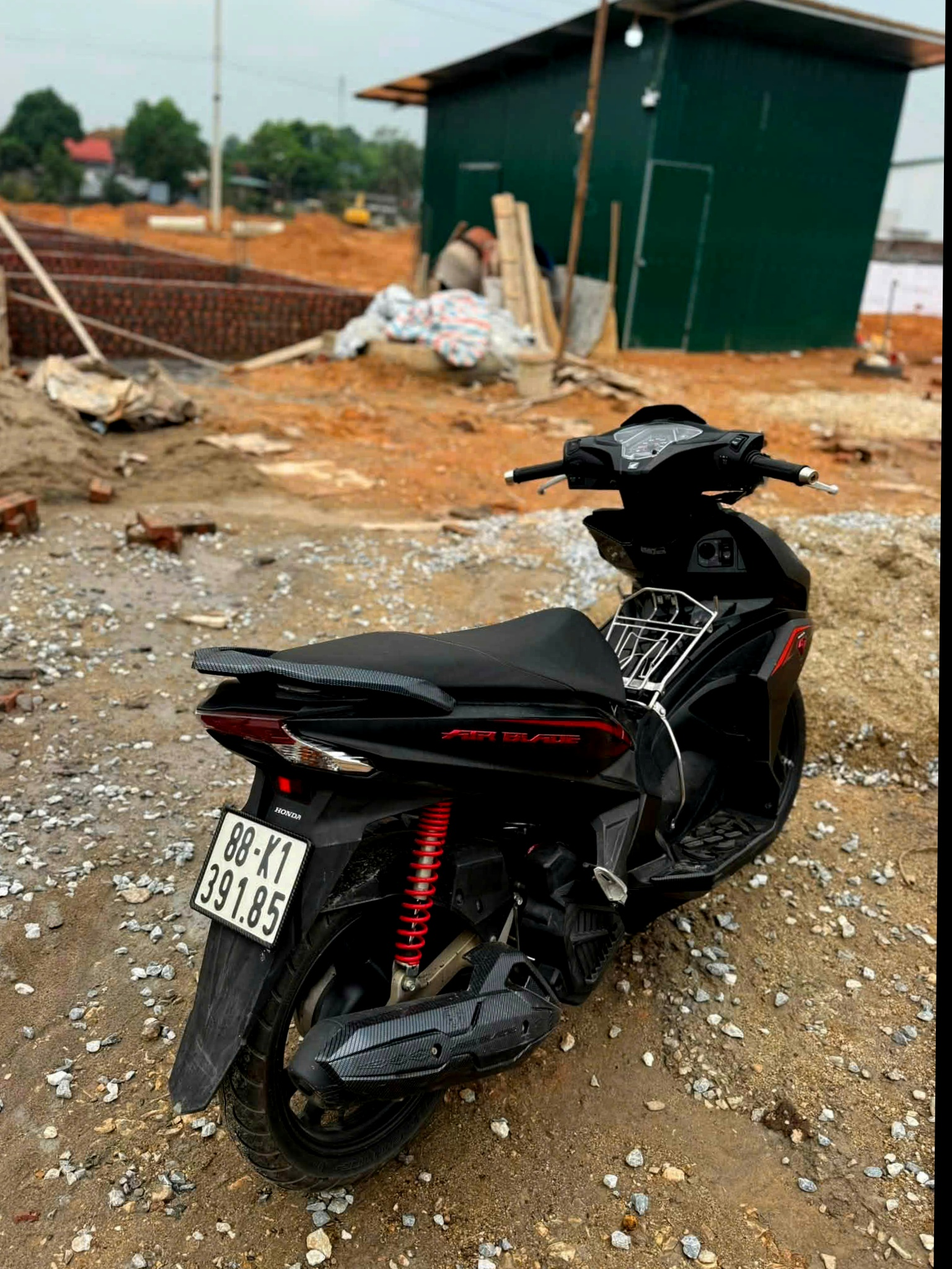Bien-so: (224, 792, 348, 929)
